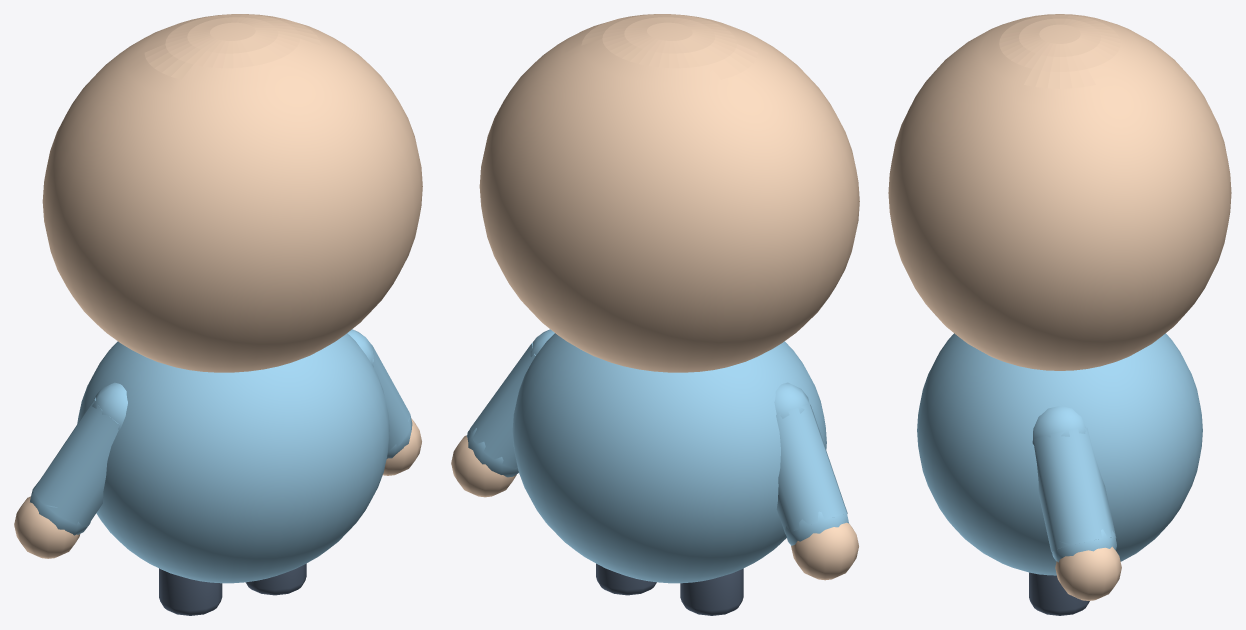
File: Body_Round.fbx
The picture shows the model from 3 angles, left to right: view 1: azimuth 30°, elevation 25°; view 2: azimuth 150°, elevation 25°; view 3: azimuth 270°, elevation 25°; orthographic projection. The views are drawn at different scales.
Parts seen in each view (by area): view 1: Head, Body, Arm.001, Hand.001, Leg.001, Arm, Leg, Arm_Cap.002, Hand, Arm_Cap.003; view 2: Head, Body, Arm.001, Arm, Hand.001, Leg.001, Hand, Leg, Arm_Cap.003, Arm_Cap.002, Arm_Cap.001; view 3: Head, Body, Arm, Hand, Leg, Arm_Cap, Arm_Cap.001.
Part boxes in pixels (box(x1,y1,x2,y2)): Head: box(42, 14, 422, 372); Body: box(77, 333, 389, 583); Arm.001: box(33, 397, 120, 526); Hand.001: box(14, 496, 80, 558); Leg.001: box(159, 568, 222, 615); Arm: box(371, 344, 410, 451); Leg: box(245, 563, 306, 595); Arm_Cap.002: box(92, 382, 127, 430); Hand: box(383, 418, 421, 475); Arm_Cap.003: box(30, 480, 90, 535); Head: box(479, 14, 859, 372); Body: box(512, 333, 826, 583); Arm.001: box(776, 404, 847, 534); Arm: box(470, 343, 535, 468); Hand.001: box(791, 522, 858, 580); Leg.001: box(680, 568, 743, 615); Hand: box(451, 435, 516, 497); Leg: box(596, 563, 656, 595); Arm_Cap.003: box(785, 510, 849, 545); Arm_Cap.002: box(774, 382, 809, 418); Arm_Cap.001: box(466, 428, 518, 477); Head: box(888, 14, 1231, 370); Body: box(917, 333, 1202, 575); Arm: box(1033, 428, 1116, 552); Hand: box(1055, 546, 1121, 600); Leg: box(1029, 572, 1089, 615); Arm_Cap: box(1032, 406, 1085, 444); Arm_Cap.001: box(1052, 529, 1116, 562).
Bounding box in the file's own units: 94.6 × 128 × 72.
